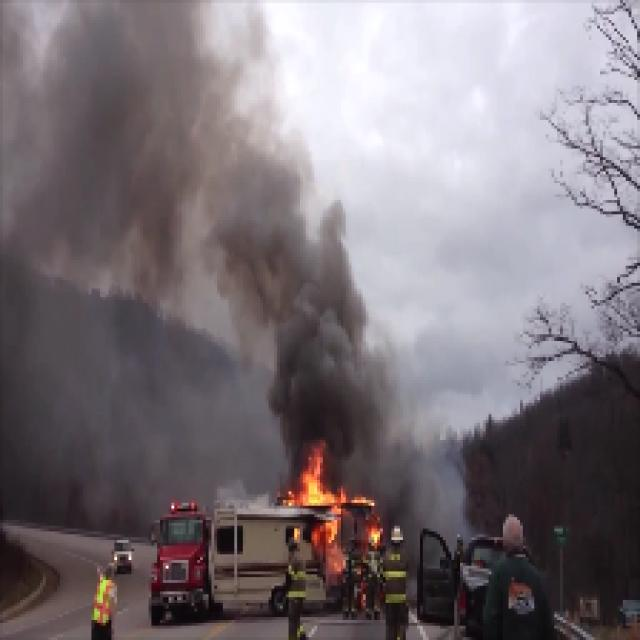fire: (299, 457, 332, 509)
smoke: (48, 45, 177, 214), (280, 284, 361, 446), (213, 164, 281, 294)
